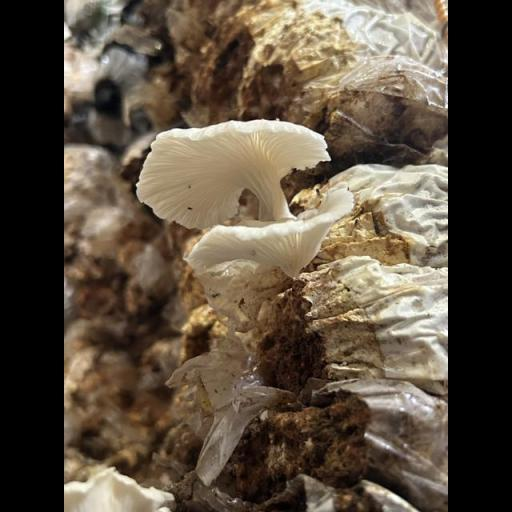White Oyster Mushroom: (127, 103, 363, 285)
